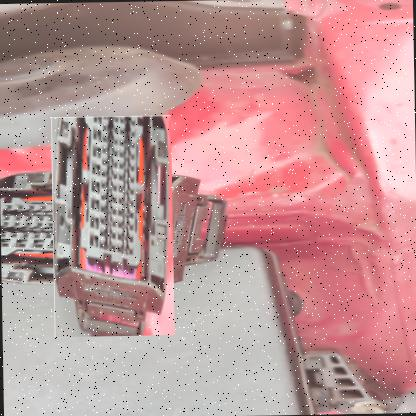Connector: (26, 139, 200, 313)
